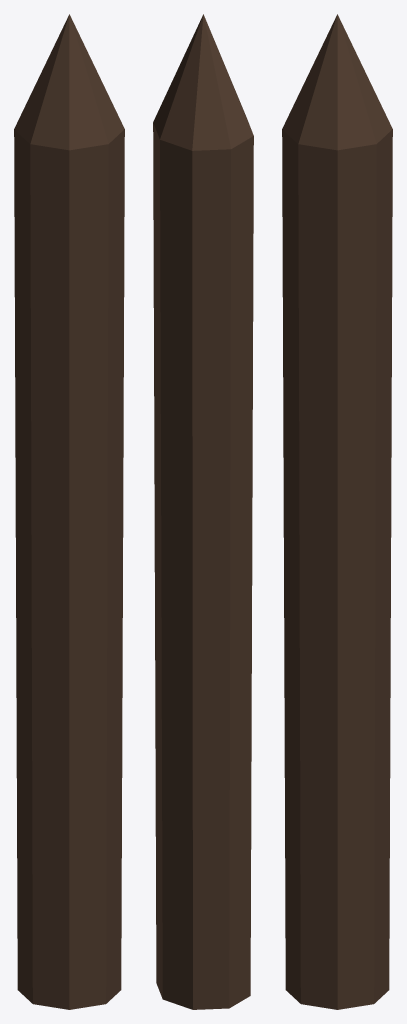
File: Wood Spike.fbx
3 views of the same model, side by side, from view 1: azimuth 90°, elevation 25°; view 2: azimuth 210°, elevation 25°; view 3: azimuth 270°, elevation 25° (orthographic).
Visible parts, largest first — view 1: Cylinder.021; view 2: Cylinder.021; view 3: Cylinder.021.
Part boxes in pixels (bbox=[...]): Cylinder.021: bbox=[14, 14, 124, 1009]; Cylinder.021: bbox=[153, 14, 253, 1009]; Cylinder.021: bbox=[282, 14, 392, 1009].
Size of the model in its own units: 0.2331 by 2.49 by 0.2564.
